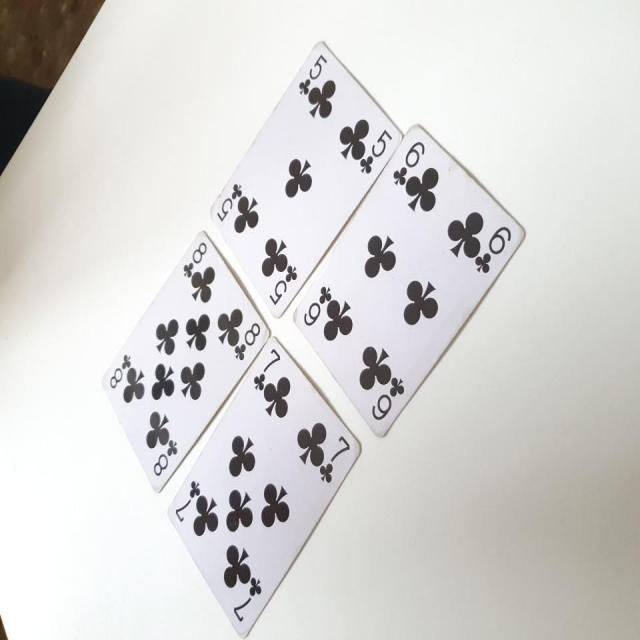5 Trefoils: (208, 40, 400, 317)
6 Trefoils: (293, 124, 524, 441)
7 Trefoils: (165, 333, 364, 640)
8 Trefoils: (98, 230, 272, 494)
